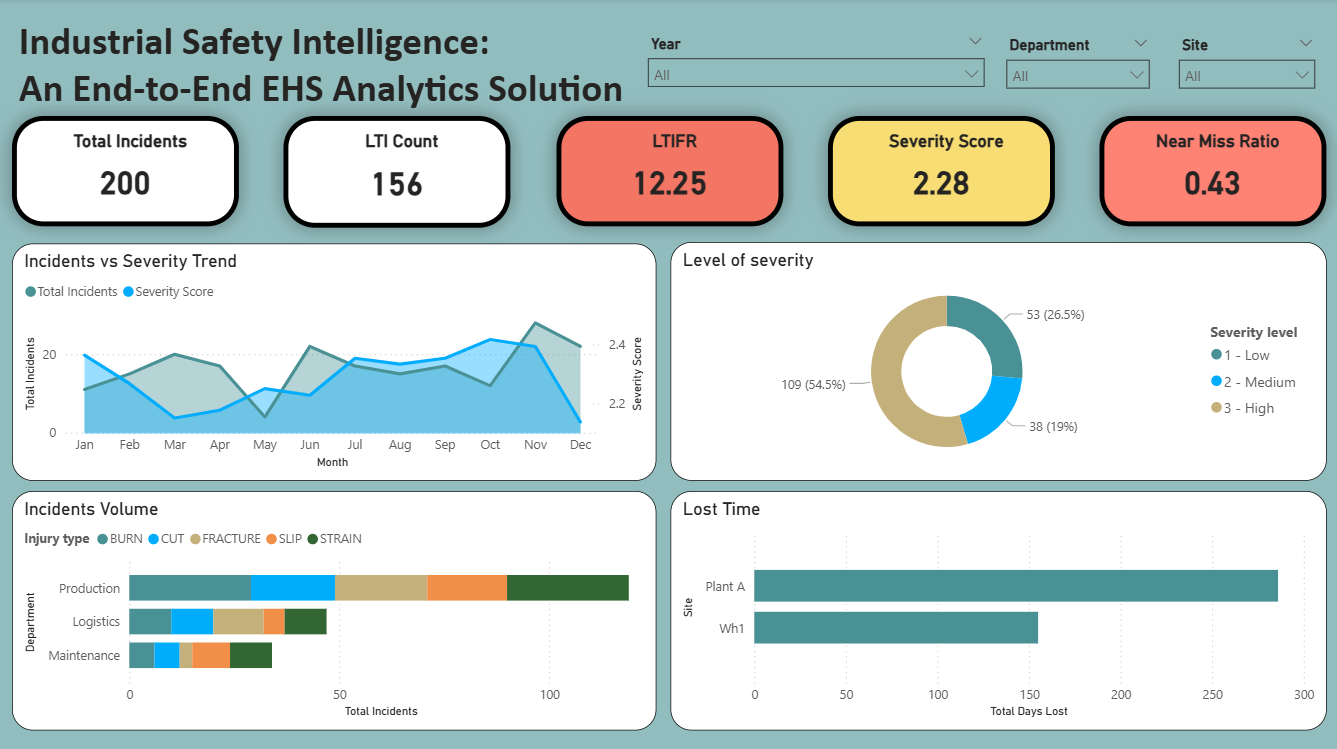

What the dashboard file says about the page in this screenshot:
{"tool":"powerbi","page":{"name":"Executive Summary","canvas":[1280,720],"ordinal":0},"visuals":[{"type":"slicer","fields":{"Values":["dim_date.Year"]},"box":[609.2,29.2,341.5,70.8],"z":0},{"type":"slicer","fields":{"Values":["dim_department.dept_name"]},"box":[950.8,30.8,156.9,69.2],"z":1000},{"type":"slicer","fields":{"Values":["dim_site.site_location"]},"box":[1116,30,150,70],"z":2000},{"type":"textbox","box":[12.3,10.8,596.9,113.8],"z":3000},{"type":"card","title":"Total Incidents","fields":{"Values":["Measure_table.Total Incidents"]},"box":[11.7,111.7,216.7,105],"z":4000},{"type":"card","title":"LTIFR","fields":{"Values":["Measure_table.LTIFR"]},"box":[530.8,111.7,216.7,105],"z":5000},{"type":"card","title":"Severity Score","fields":{"Values":["Measure_table.Avg Severity Score"]},"box":[790.4,111.7,216.7,105],"z":6000},{"type":"card","title":"LTI Count","fields":{"Values":["Measure_table.LTI Count"]},"box":[271.2,111.7,216.7,106.7],"z":7000},{"type":"areaChart","title":"Incidents vs Severity Trend","fields":{"Category":["dim_date.Month Name"],"Y":["Measure_table.Total Incidents"],"Y2":["Measure_table.Avg Severity Score"]},"box":[11.7,233.3,615,226.7],"z":8000},{"type":"donutChart","title":"Level of severity","fields":{"Category":["fact_incidents.severity_level"],"Y":["Measure_table.Total Incidents"]},"box":[640,232.2,626.7,227.8],"z":9000},{"type":"barChart","title":"Incidents Volume","fields":{"Category":["dim_department.dept_name"],"Y":["Measure_table.Total Incidents"],"Series":["fact_incidents.injury_type"]},"box":[11.7,470,615,228.3],"z":10000},{"type":"clusteredBarChart","title":"Lost Time","fields":{"Category":["dim_site.site_location"],"Y":["Measure_table.Total Days Lost"]},"box":[640,470,626.7,228.3],"z":11000},{"type":"card","title":"Near Miss Ratio","fields":{"Values":["Measure_table.Near Miss Ratio"]},"box":[1050,111.7,216.7,105],"z":12000}]}

Visuals, with their boxes in screenshot pixels (x1, y1, x2, y2), scaled from the page's 1280x720 canvas onto the 1337x749 screenshot:
slicer - dim_date.Year: left=636, top=30, right=993, bottom=104
slicer - dim_department.dept_name: left=993, top=32, right=1157, bottom=104
slicer - dim_site.site_location: left=1166, top=31, right=1322, bottom=104
textbox: left=13, top=11, right=636, bottom=130
"Total Incidents" card: left=12, top=116, right=239, bottom=225
"LTIFR" card: left=554, top=116, right=781, bottom=225
"Severity Score" card: left=826, top=116, right=1052, bottom=225
"LTI Count" card: left=283, top=116, right=510, bottom=227
"Incidents vs Severity Trend" areaChart: left=12, top=243, right=655, bottom=479
"Level of severity" donutChart: left=668, top=242, right=1323, bottom=479
"Incidents Volume" barChart: left=12, top=489, right=655, bottom=726
"Lost Time" clusteredBarChart: left=668, top=489, right=1323, bottom=726
"Near Miss Ratio" card: left=1097, top=116, right=1323, bottom=225
